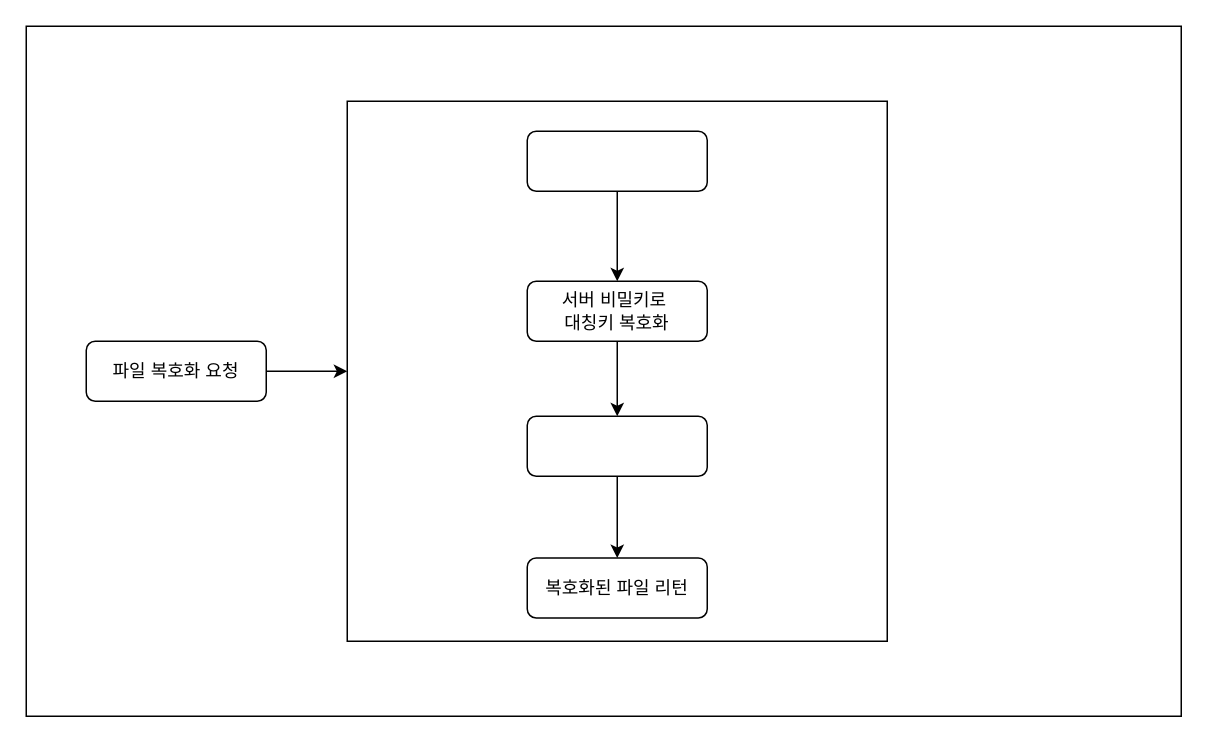
Some shapes in this 1208 by 743 pixel diagram are drawn without their labels. The shapes that lost their labels are listed below. From the top down, each one's centre as x and y in pixels, then its label:
the point at 616,160: 파일 파싱 파일, 대칭키
the point at 616,445: 대칭 복호화로 파일 복호화 처리
